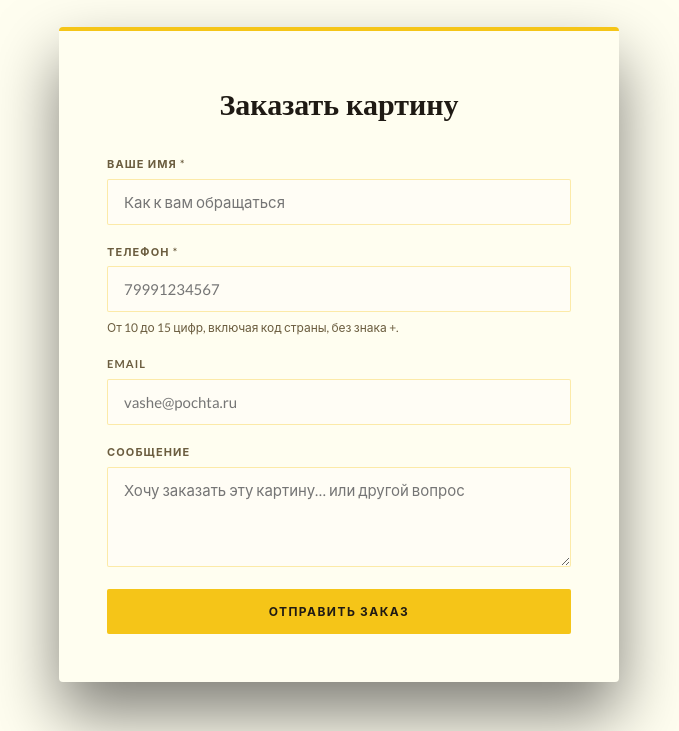
it: Форма заказа › блокирует буквы и знаки и очищает вставленный телефон
The image size is (679, 731).
In the field labelled "Телефон *": point(339, 289) x1=107 y1=266 x2=571 y2=312, type "abcАБВ+()-79991234567"
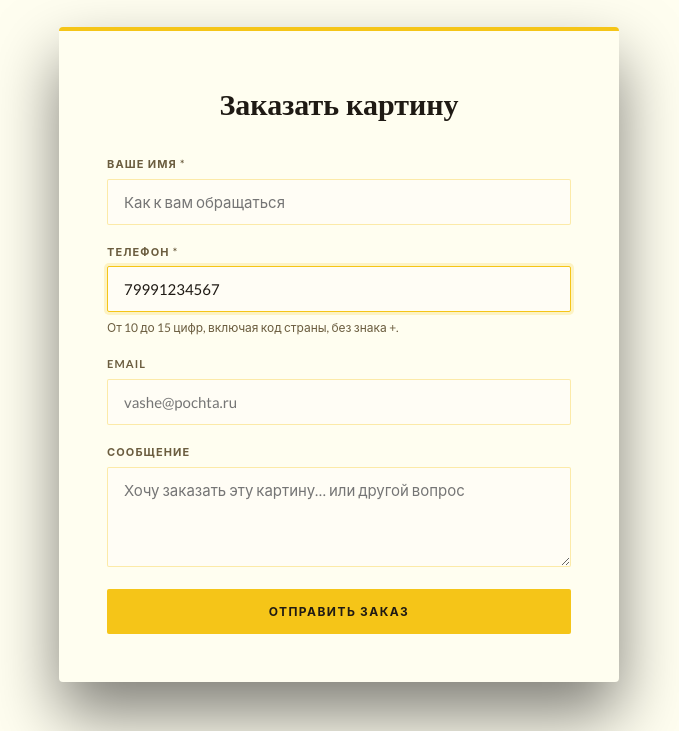
Now the field labelled "Телефон *" holds "79991234567"
Clear the field labelled "Телефон *": point(339, 289) x1=107 y1=266 x2=571 y2=312
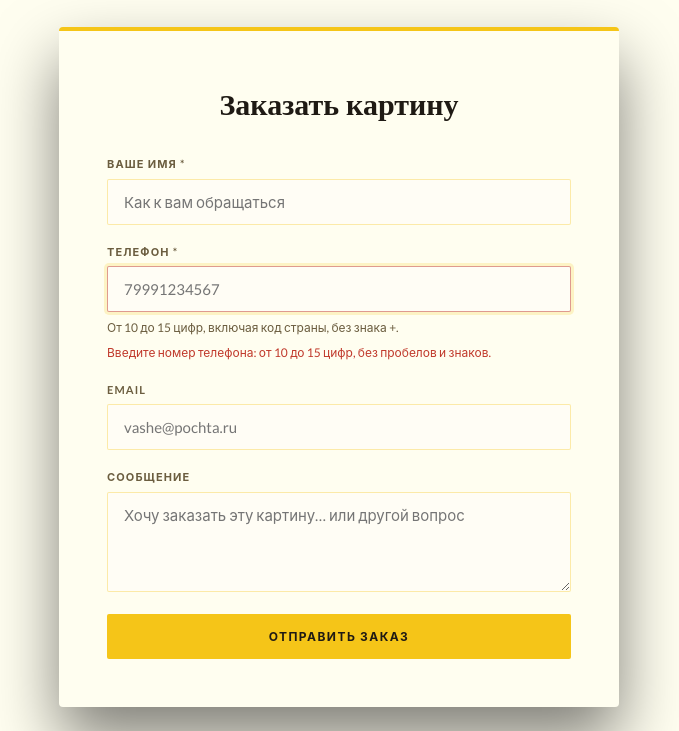
Type keys "+7 (999) 123-45-67 abc"
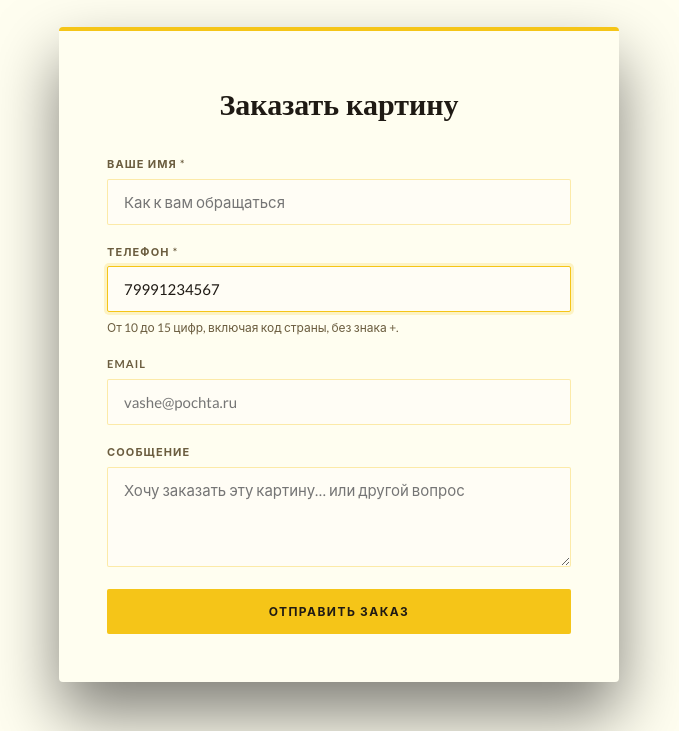
Now the field labelled "Телефон *" holds "79991234567"
In the field labelled "Телефон *": point(339, 289) x1=107 y1=266 x2=571 y2=312, type "abc123"
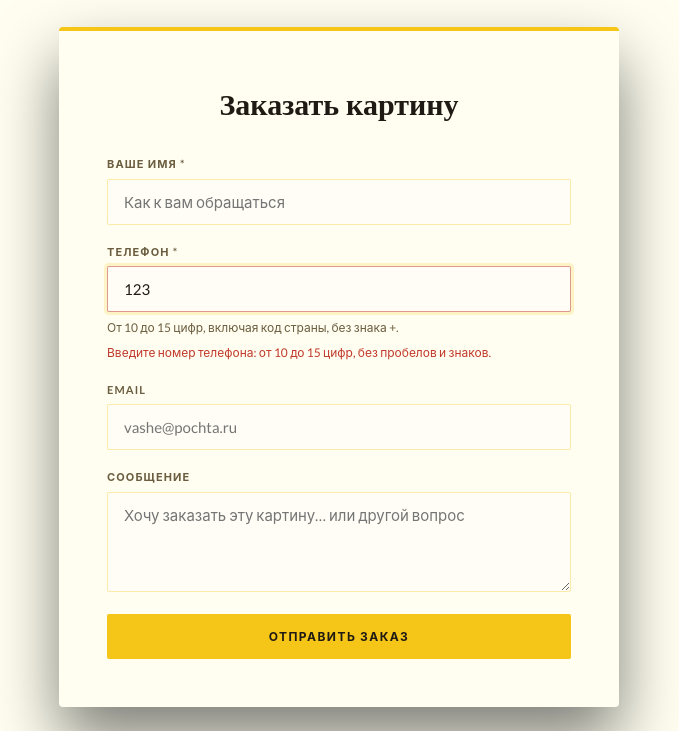
Now the field labelled "Телефон *" holds "123", box x1=107 y1=266 x2=571 y2=312
